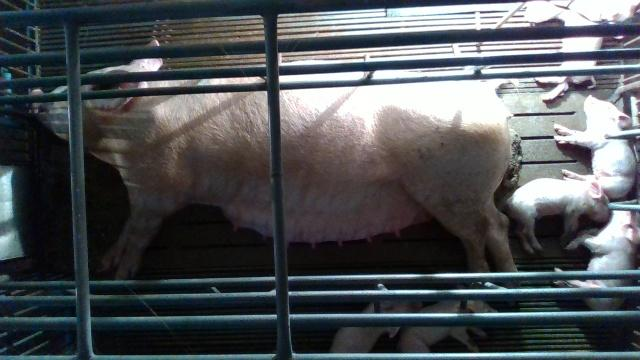piglet: (554, 95, 638, 200), (554, 209, 640, 311), (525, 0, 603, 102), (505, 178, 611, 253), (398, 298, 496, 353), (327, 301, 423, 353), (549, 0, 640, 23)
sow-sleep-lactate: (31, 39, 515, 280)
